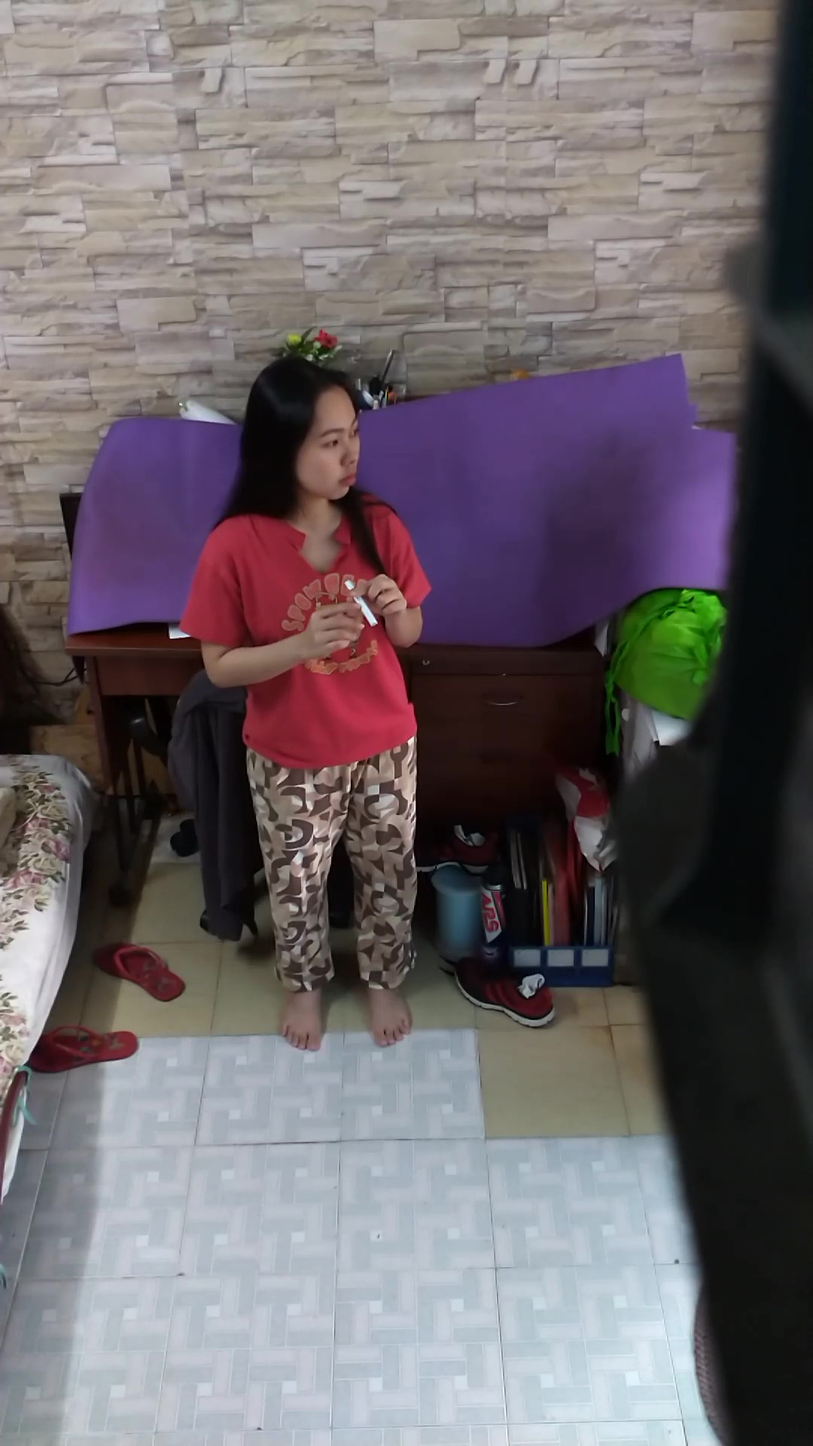cigarette: (354, 596, 381, 630)
person: (179, 355, 428, 1066)
